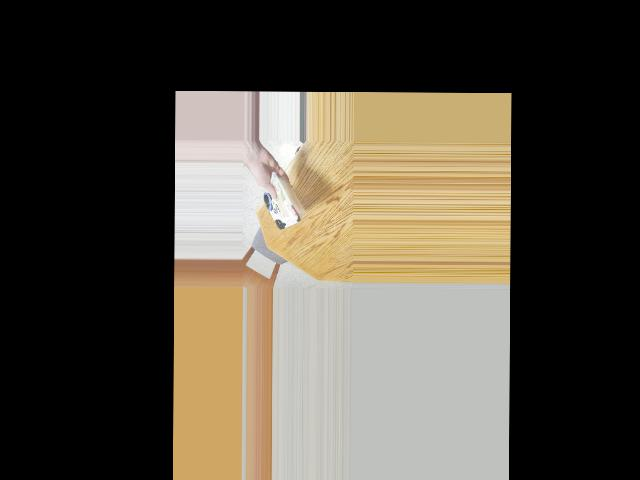cheese: (256, 181, 310, 227)
